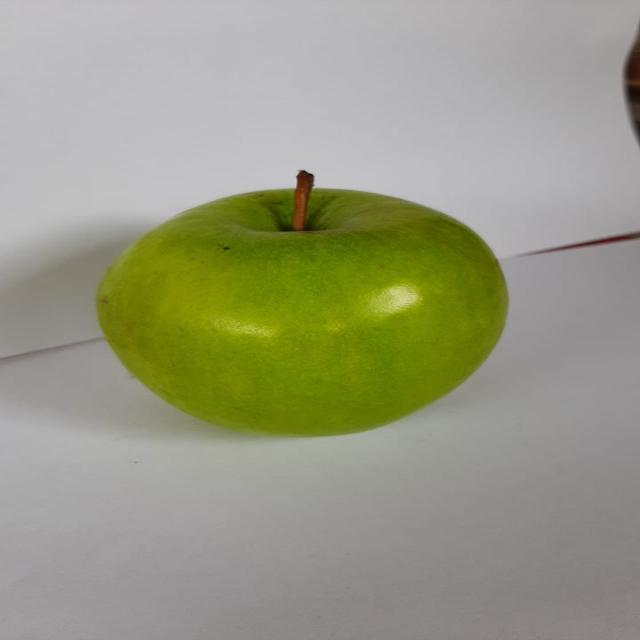50-_ripeness: (88, 167, 520, 449)
